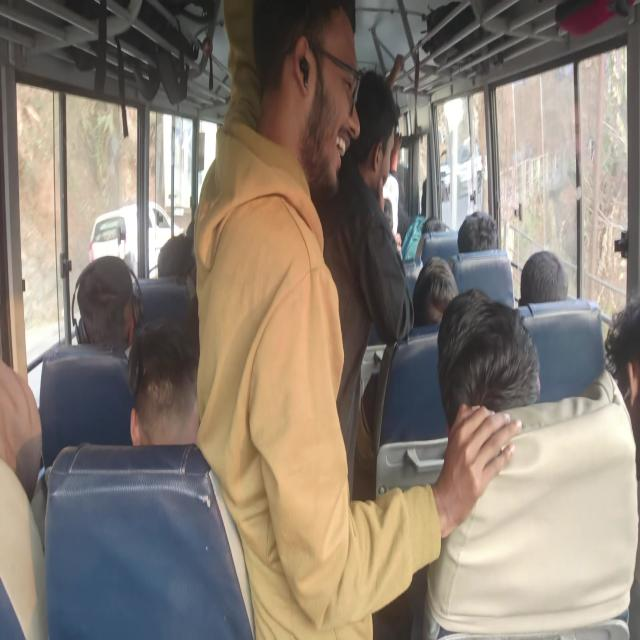person: (252, 11, 348, 188), (362, 247, 432, 480), (436, 288, 541, 429), (126, 318, 202, 445), (349, 70, 397, 252), (75, 254, 142, 348), (604, 294, 640, 463), (413, 255, 458, 327), (518, 250, 569, 305), (456, 211, 499, 254), (156, 233, 192, 279), (422, 220, 449, 234)
